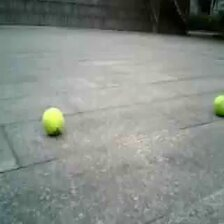tennis: (43, 108, 63, 133), (213, 94, 224, 116)
